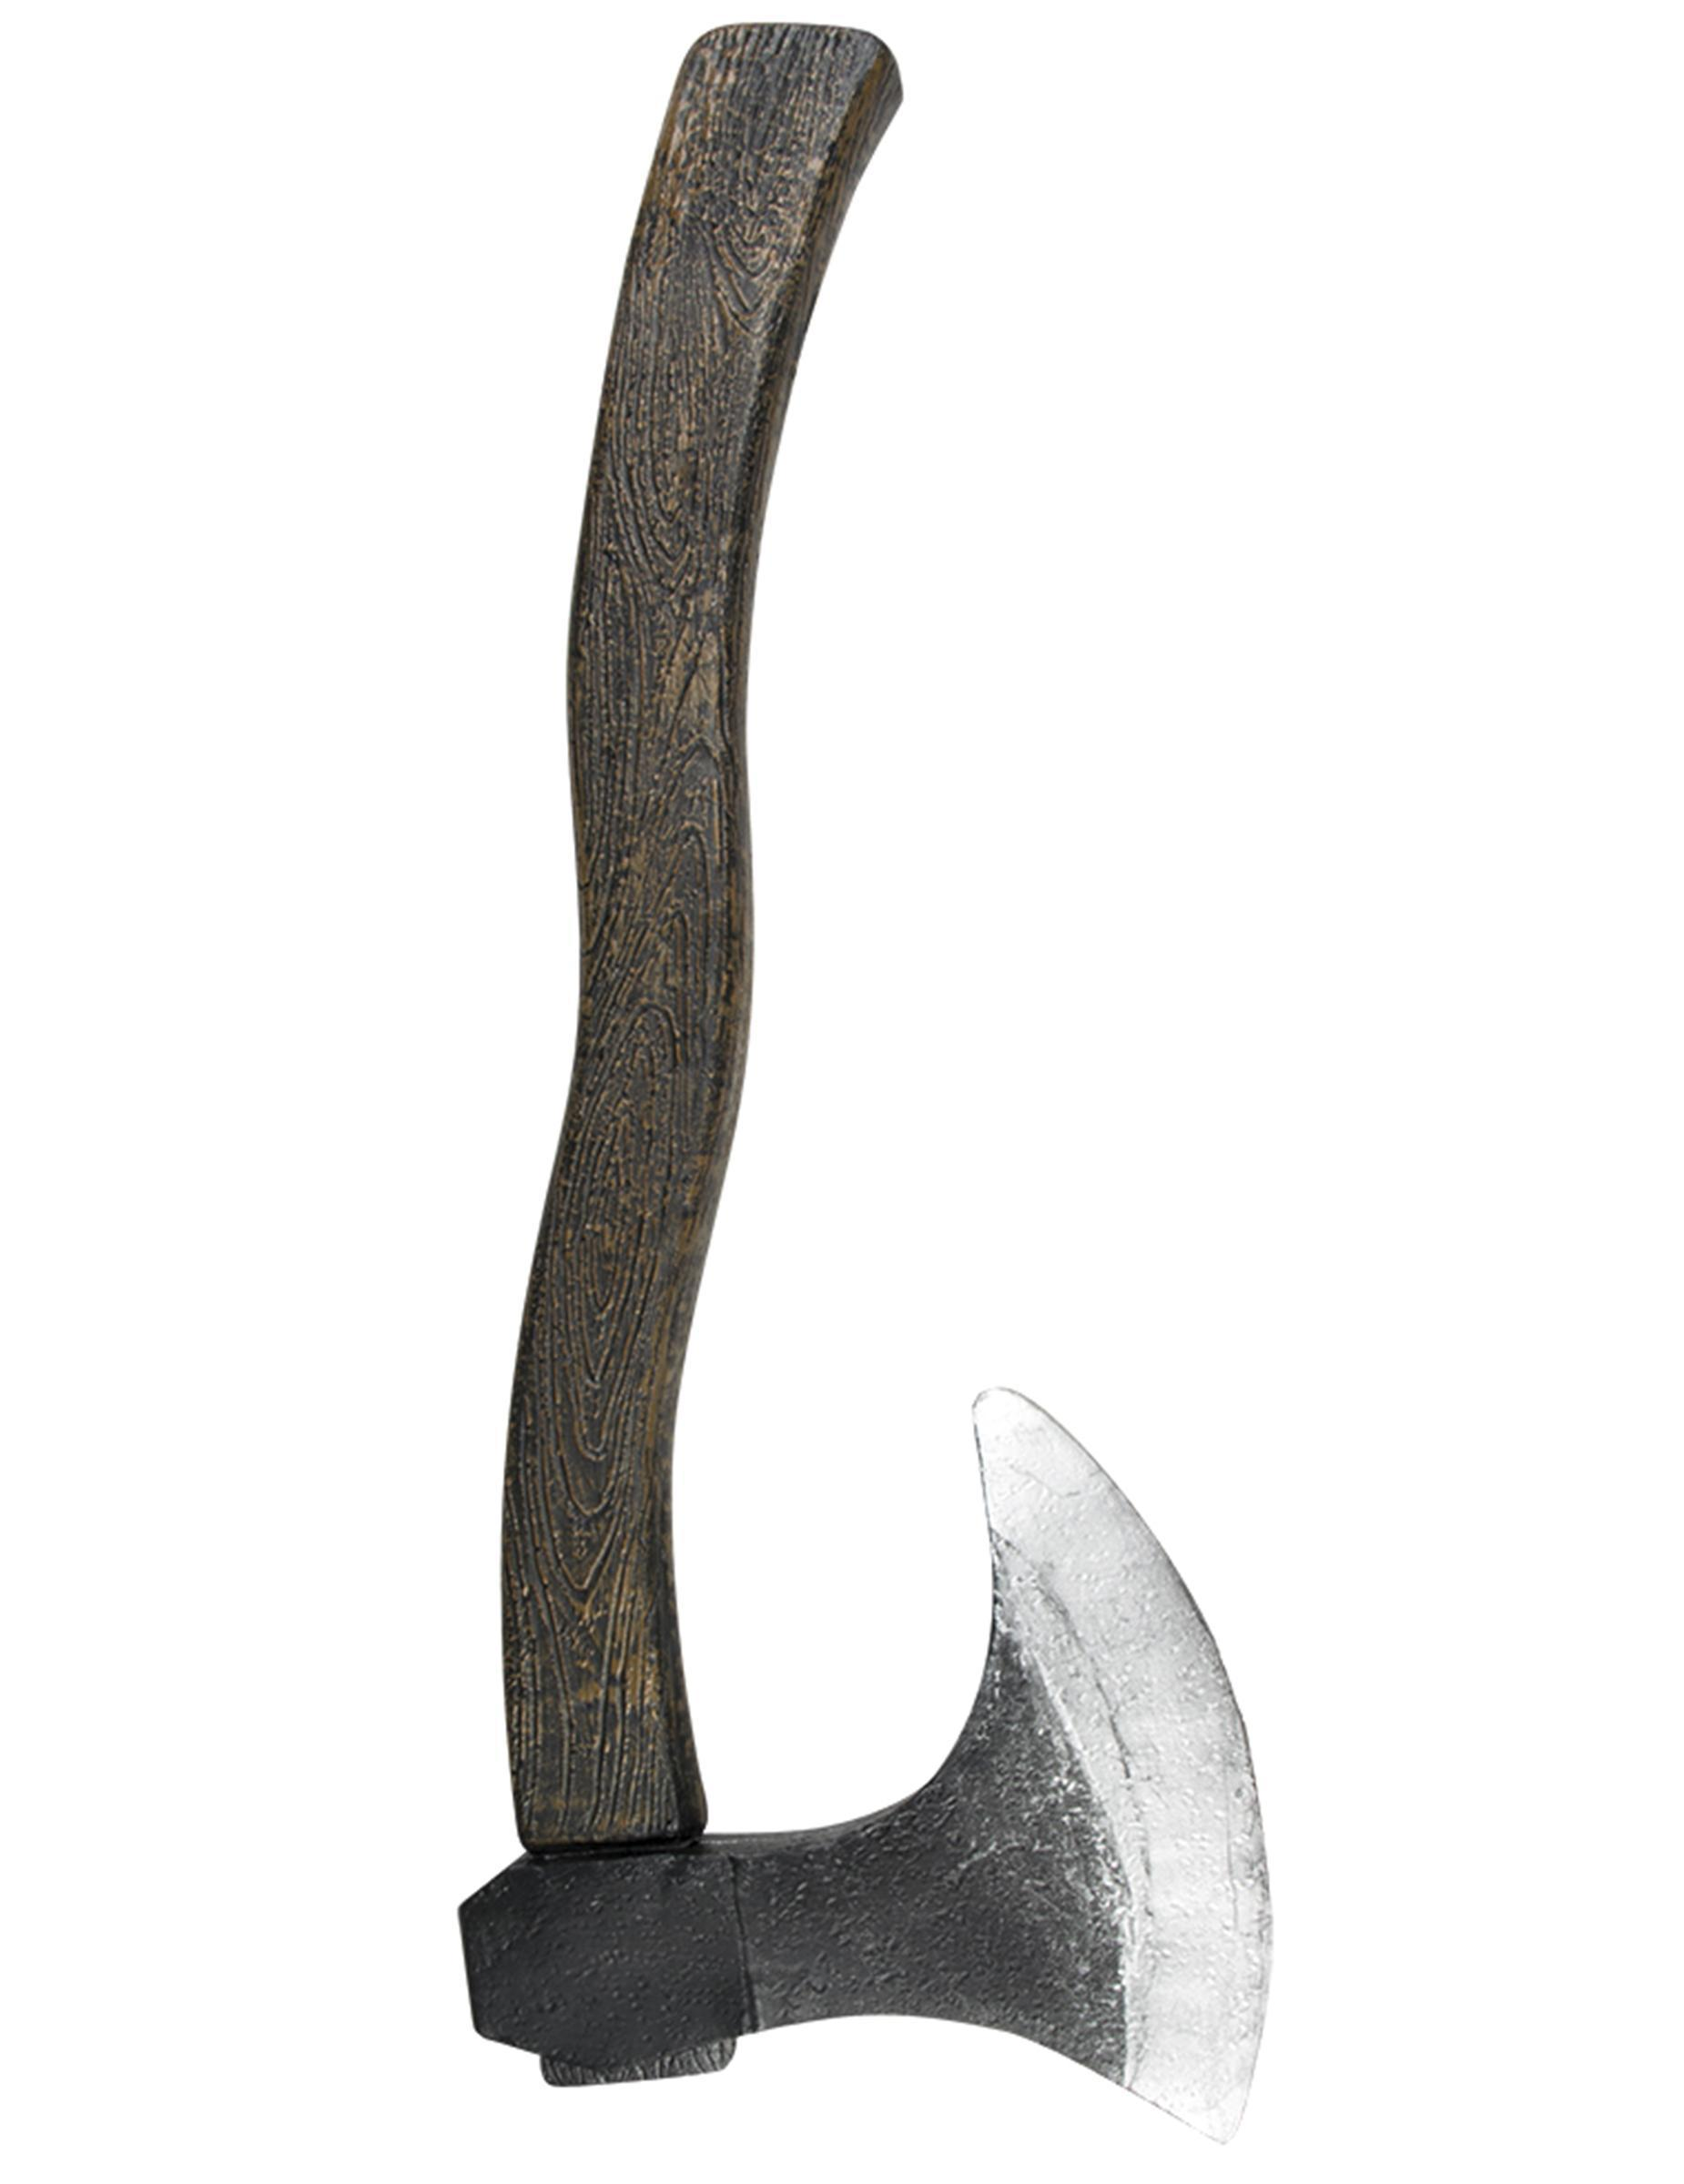machado: (458, 25, 1270, 2138)
